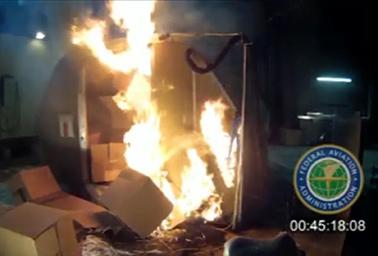fire: (99, 10, 233, 218)
